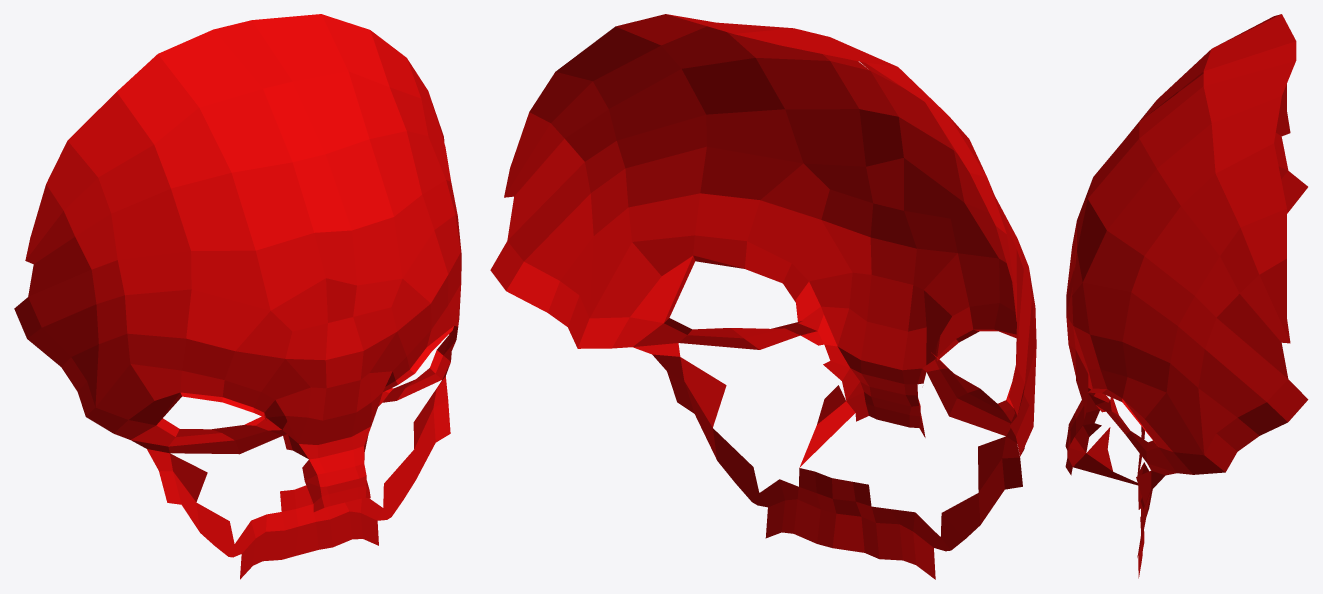
Rendered from head2.fbx.
3 views of the same model, side by side, from view 1: azimuth 30°, elevation 25°; view 2: azimuth 150°, elevation 25°; view 3: azimuth 270°, elevation 25° (orthographic). The views are drawn at different scales.
Parts seen in each view (by area): view 1: pPlane3; view 2: pPlane3; view 3: pPlane3.
Part boxes in pixels (box(x1,y1,x2,y2)): pPlane3: box(14, 14, 461, 579); pPlane3: box(490, 14, 1036, 579); pPlane3: box(1065, 14, 1308, 578).
Size of the model in its own units: 0.6449 by 0.6989 by 0.3114.
